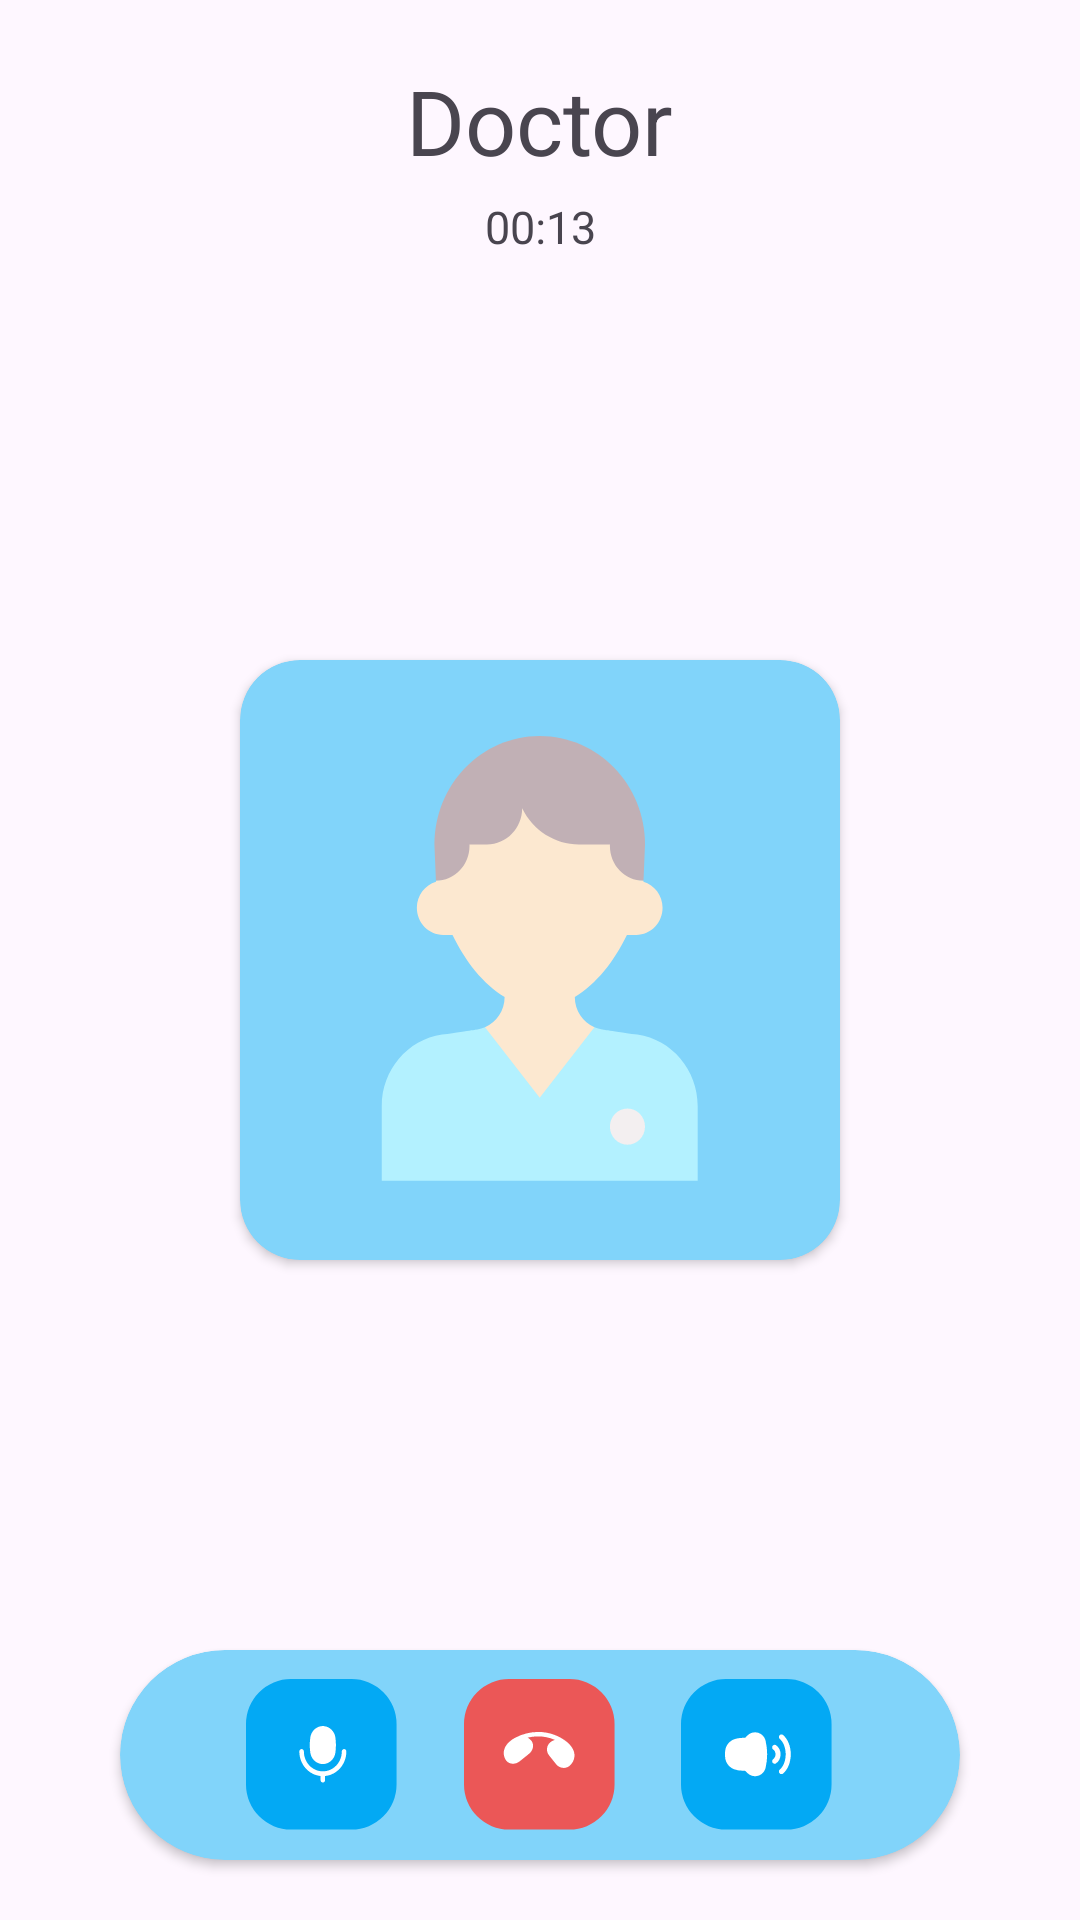

Icons on this 1080×1920 Android screen, each with the point to tap as [x,y]:
end call: [539,1754]
mute: [321,1754]
specker: [756,1754]
